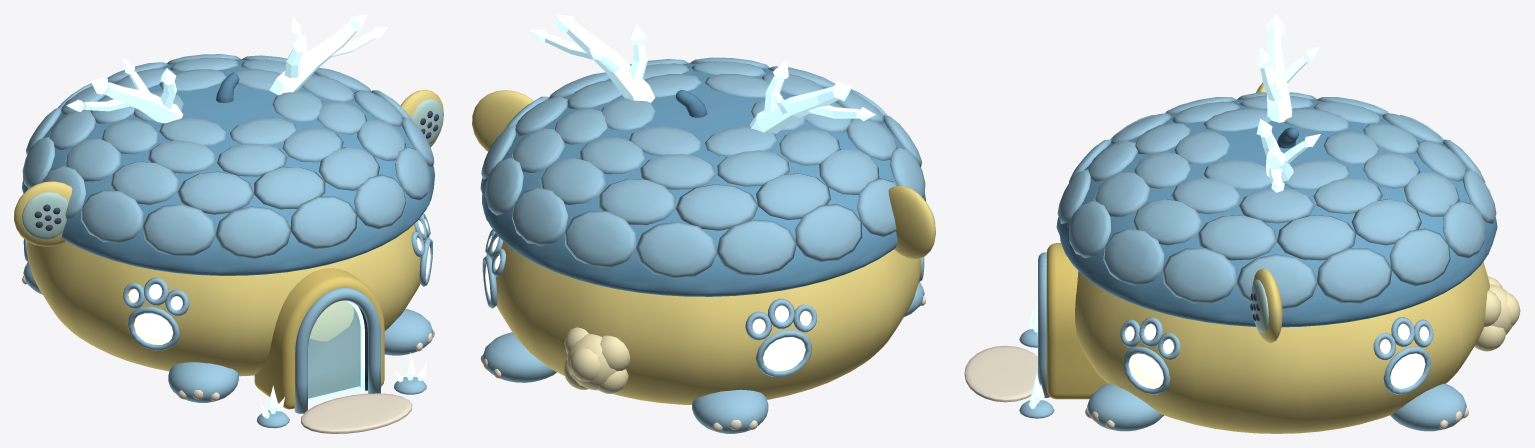
Rendered from house_04_0401.fbx.
3 renders of one model, left to right at view 1: azimuth 30°, elevation 25°; view 2: azimuth 150°, elevation 25°; view 3: azimuth 270°, elevation 25°, orthographic. The views are drawn at different scales.
Visible parts, largest first — view 1: House_AcornCap_Scales, House_Body, House_AcornCap, House_Entrance, House_CrystalAntlers, House_GlowMembrane, House_Paws, House_EntranceStep, House_DoorRim, House_PawWindows_Rim, House_EarVent_Inner, House_EarVent_Shell (+7 smaller); view 2: House_AcornCap_Scales, House_Body, House_AcornCap, House_CrystalAntlers, House_Paws, House_EarVent_Shell, House_Tail, House_PawWindows_Rim, House_PawWindows_Glow, House_AntlerGlowTips, House_CapStem; view 3: House_AcornCap_Scales, House_Body, House_AcornCap, House_Entrance, House_Paws, House_PawWindows_Rim, House_EntranceStep, House_CrystalAntlers, House_PawWindows_Glow, House_Tail, House_AntlerGlowTips, House_DoorRim (+3 smaller).
Boxes of the visible parts, x1=… form: House_AcornCap_Scales: x1=22, y1=54, x2=434, y2=259; House_Body: x1=26, y1=224, x2=429, y2=376; House_AcornCap: x1=22, y1=59, x2=434, y2=275; House_Entrance: x1=254, y1=268, x2=384, y2=409; House_CrystalAntlers: x1=83, y1=22, x2=375, y2=123; House_GlowMembrane: x1=308, y1=300, x2=360, y2=402; House_Paws: x1=23, y1=262, x2=433, y2=402; House_EntranceStep: x1=301, y1=393, x2=412, y2=433; House_DoorRim: x1=294, y1=287, x2=380, y2=413; House_PawWindows_Rim: x1=23, y1=213, x2=432, y2=350; House_EarVent_Inner: x1=22, y1=98, x2=443, y2=239; House_EarVent_Shell: x1=14, y1=89, x2=443, y2=246; House_AcornCap_Scales: x1=481, y1=57, x2=925, y2=278; House_Body: x1=486, y1=241, x2=920, y2=404; House_AcornCap: x1=480, y1=63, x2=925, y2=296; House_CrystalAntlers: x1=545, y1=22, x2=859, y2=133; House_Paws: x1=482, y1=282, x2=924, y2=433; House_EarVent_Shell: x1=472, y1=90, x2=935, y2=259; House_Tail: x1=563, y1=327, x2=630, y2=393; House_PawWindows_Rim: x1=482, y1=229, x2=924, y2=376; House_PawWindows_Glow: x1=485, y1=235, x2=811, y2=371; House_AntlerGlowTips: x1=528, y1=14, x2=875, y2=121; House_CapStem: x1=676, y1=90, x2=707, y2=117; House_AcornCap_Scales: x1=1057, y1=92, x2=1496, y2=308; House_Body: x1=1075, y1=262, x2=1489, y2=433; House_AcornCap: x1=1056, y1=99, x2=1497, y2=327; House_Entrance: x1=1046, y1=243, x2=1107, y2=399; House_Paws: x1=1087, y1=383, x2=1466, y2=431; House_PawWindows_Rim: x1=1120, y1=317, x2=1433, y2=394; House_EntranceStep: x1=964, y1=345, x2=1037, y2=402; House_CrystalAntlers: x1=1260, y1=28, x2=1307, y2=183; House_PawWindows_Glow: x1=1125, y1=323, x2=1428, y2=388; House_Tail: x1=1474, y1=276, x2=1520, y2=351; House_AntlerGlowTips: x1=1256, y1=14, x2=1320, y2=192; House_DoorRim: x1=1038, y1=252, x2=1049, y2=397.
Bounding box in the file's own units: 6.38 × 3.94 × 6.76.
